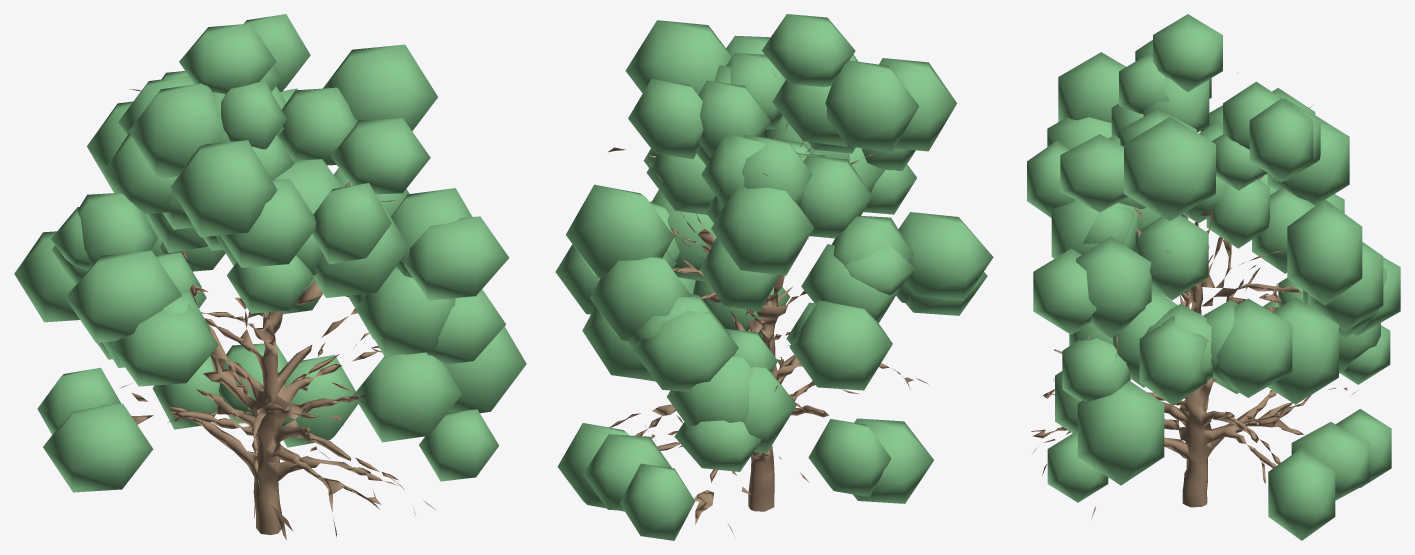
File: arvore_grande.glb
3 views of the same model, side by side, from view 1: azimuth 30°, elevation 25°; view 2: azimuth 150°, elevation 25°; view 3: azimuth 270°, elevation 25° (orthographic). The views are drawn at different scales.
Visible parts, largest first — view 1: ArvoreGrande; view 2: ArvoreGrande; view 3: ArvoreGrande.
Boxes of the visible parts, bbox=[...] form: ArvoreGrande: bbox=[14, 14, 526, 540]; ArvoreGrande: bbox=[555, 14, 993, 540]; ArvoreGrande: bbox=[1027, 14, 1400, 540].
Bounding box in the file's own units: 6.74 × 8.08 × 6.04.
